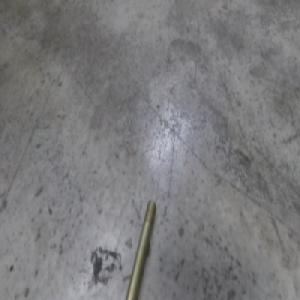Bolt: (126, 200, 156, 300)
